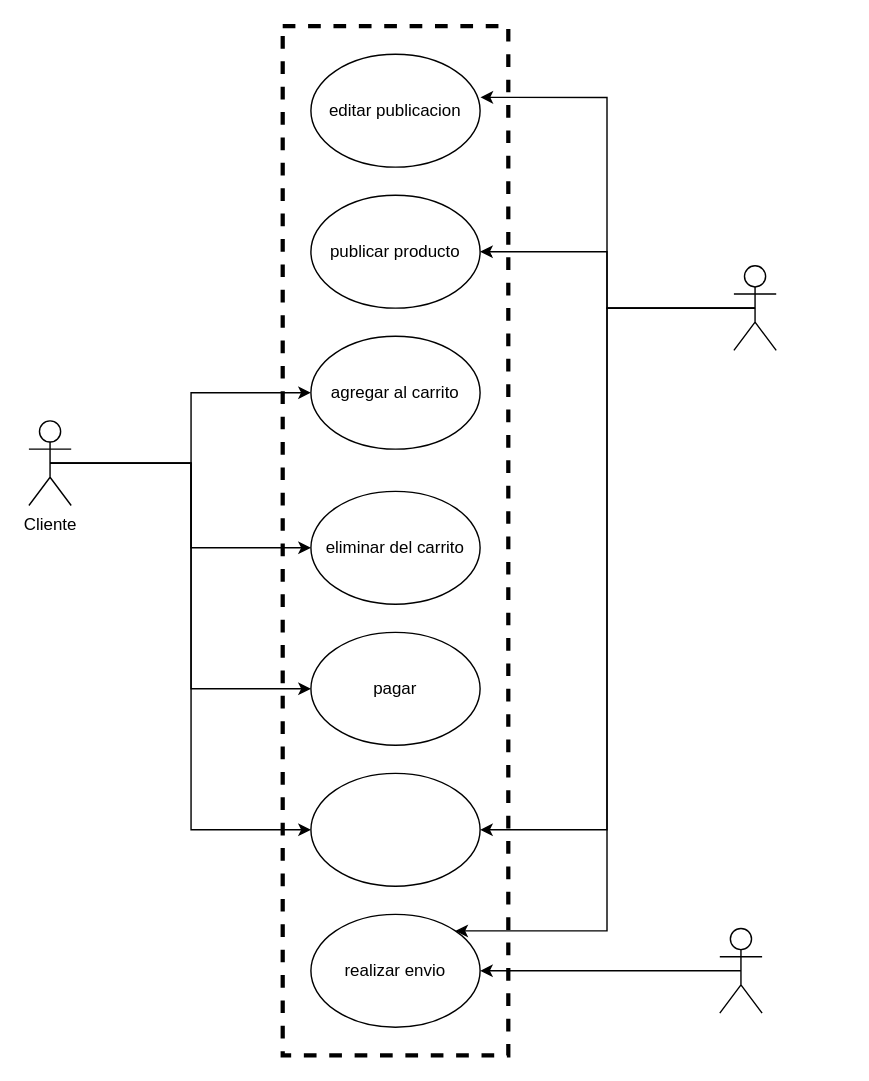
Image size: 869x1081. Some labels were removed from this diagram. The shapes that lost their labels are listed below. From the top down, each one's centre as x and y in pixels, then its label:
At (x=754, y=307): "Vendedor".
At (x=394, y=829): "registrarse".
At (x=740, y=970): "el pibe de mercado cerrado".
